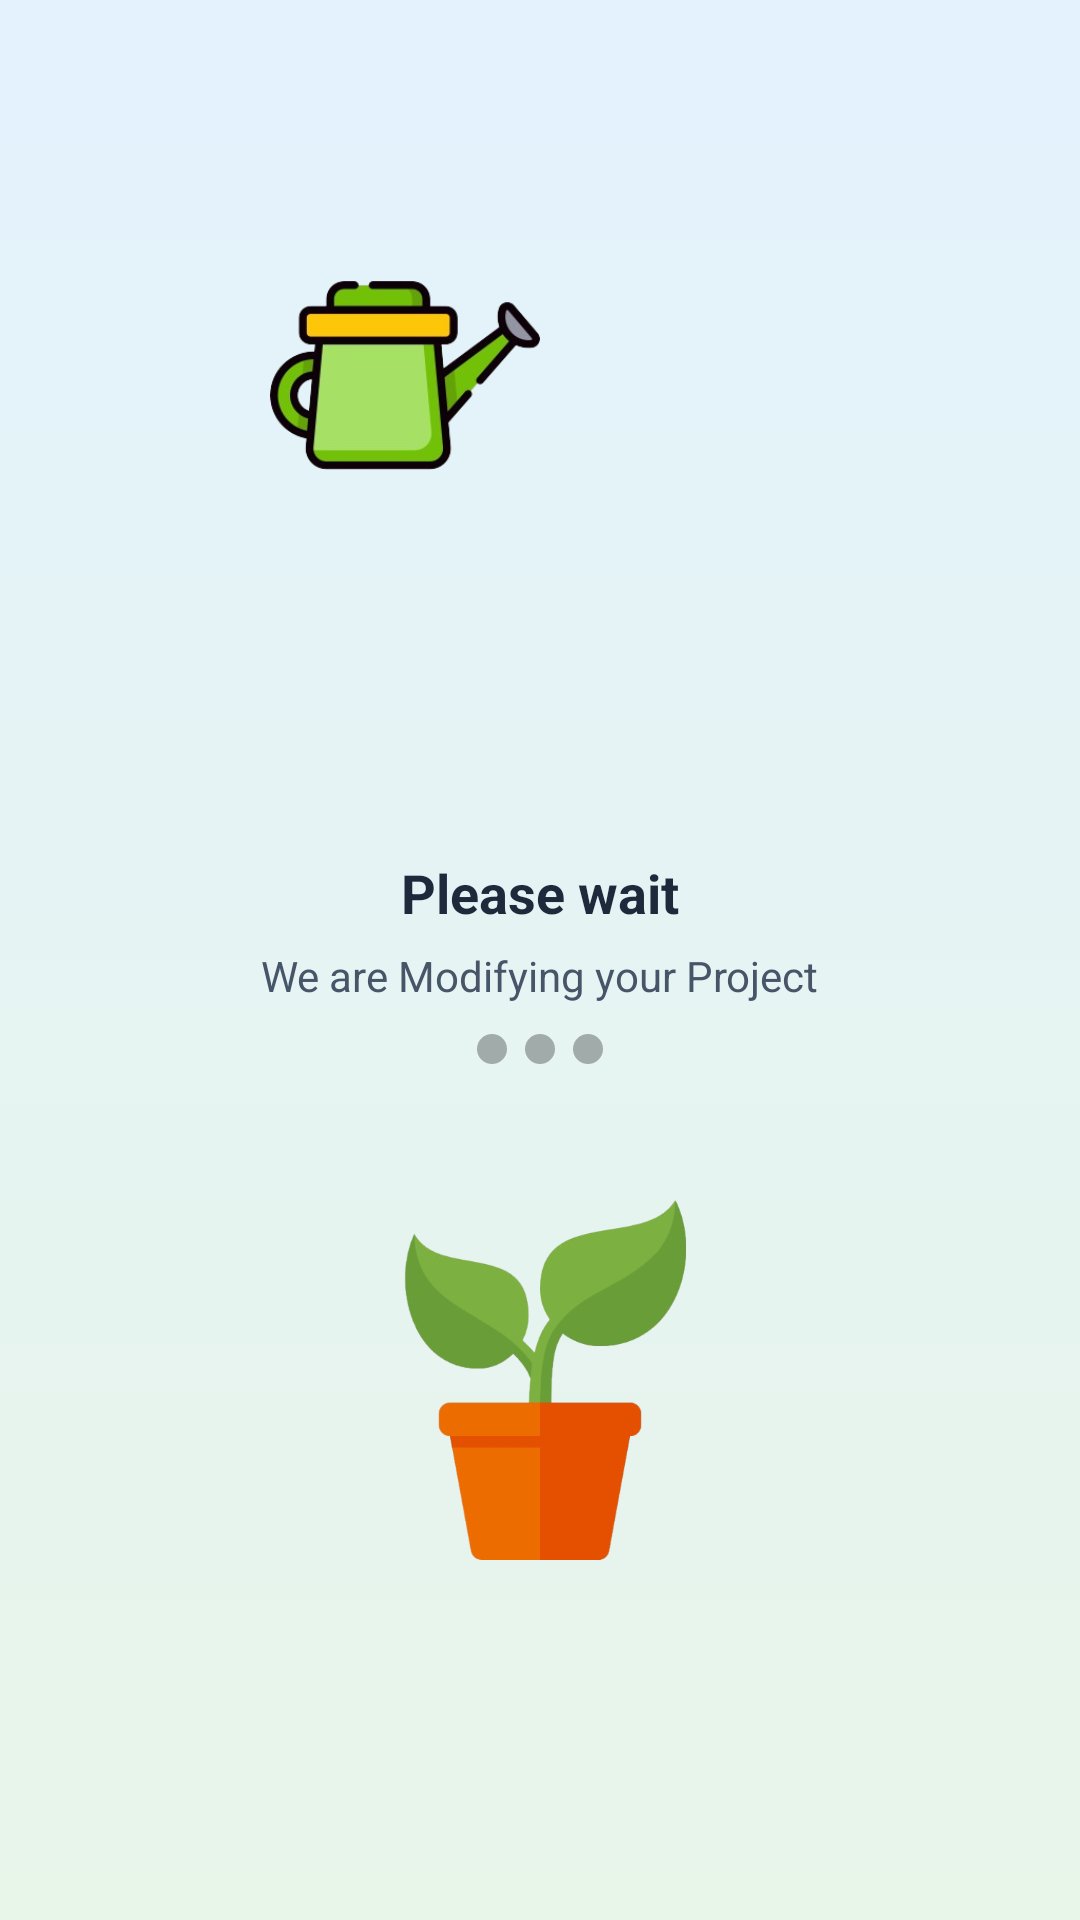

Icon bounding boxes for this 1080px×1920px phone screenshot, format (x1, y1, x2, y2):
plant: (405, 1200, 686, 1560)
